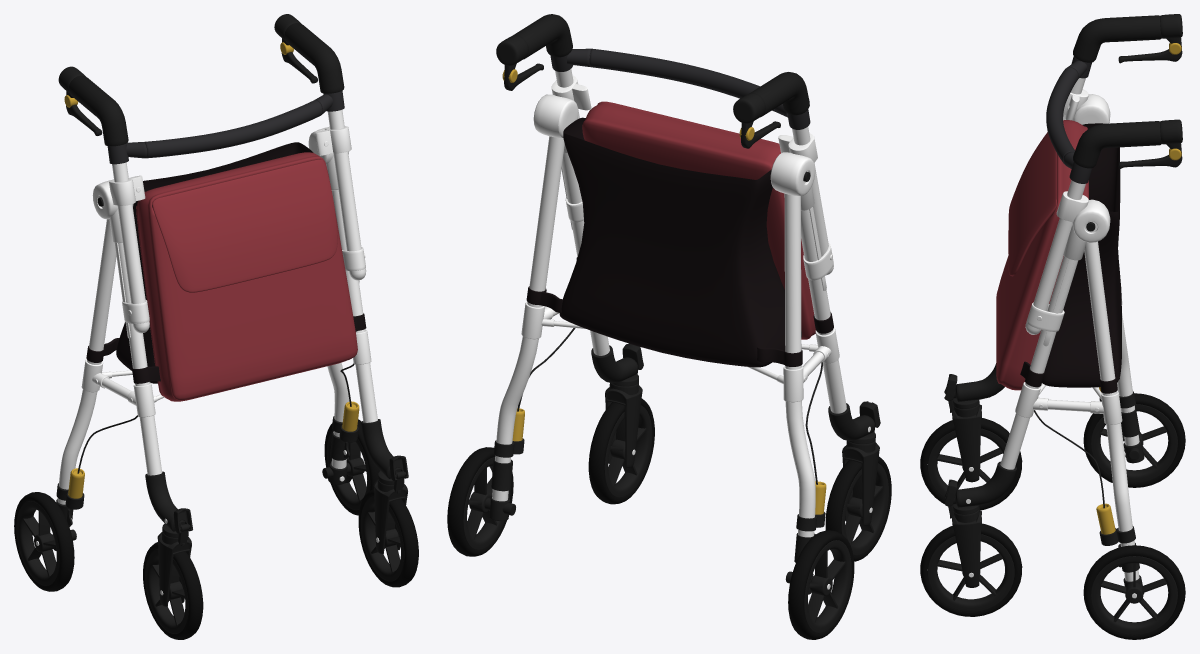
Rendered from 24_ヘルシーワンWペイズリー柄.glb.
3 renders of one model, left to right at view 1: azimuth 30°, elevation 25°; view 2: azimuth 150°, elevation 25°; view 3: azimuth 270°, elevation 25°, orthographic. The views are drawn at different scales.
Parts seen in each view (by area): view 1: 24_ヘルシーワンWペイズリー柄; view 2: 24_ヘルシーワンWペイズリー柄; view 3: 24_ヘルシーワンWペイズリー柄.
Part boxes in pixels (x1,y1,x2,y2): 24_ヘルシーワンWペイズリー柄: (14, 14, 418, 639); 24_ヘルシーワンWペイズリー柄: (447, 14, 891, 639); 24_ヘルシーワンWペイズリー柄: (920, 14, 1185, 639).
Size of the model in its own units: 0.7521 by 1.09 by 0.53.
